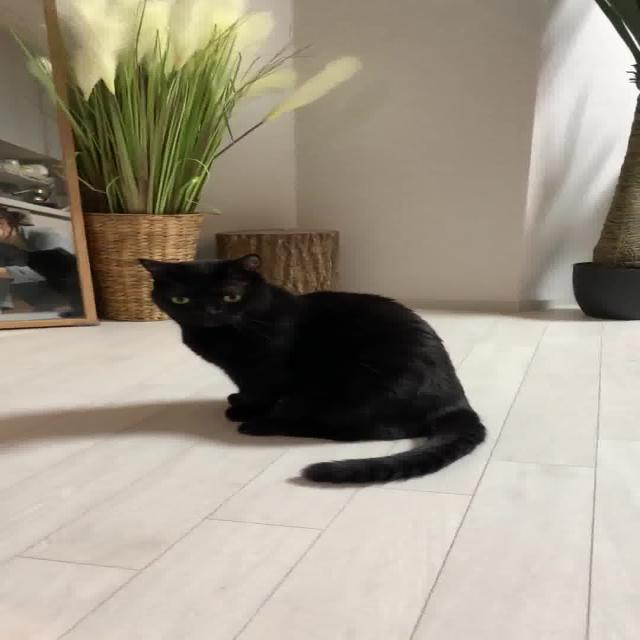cat: (92, 240, 509, 489)
